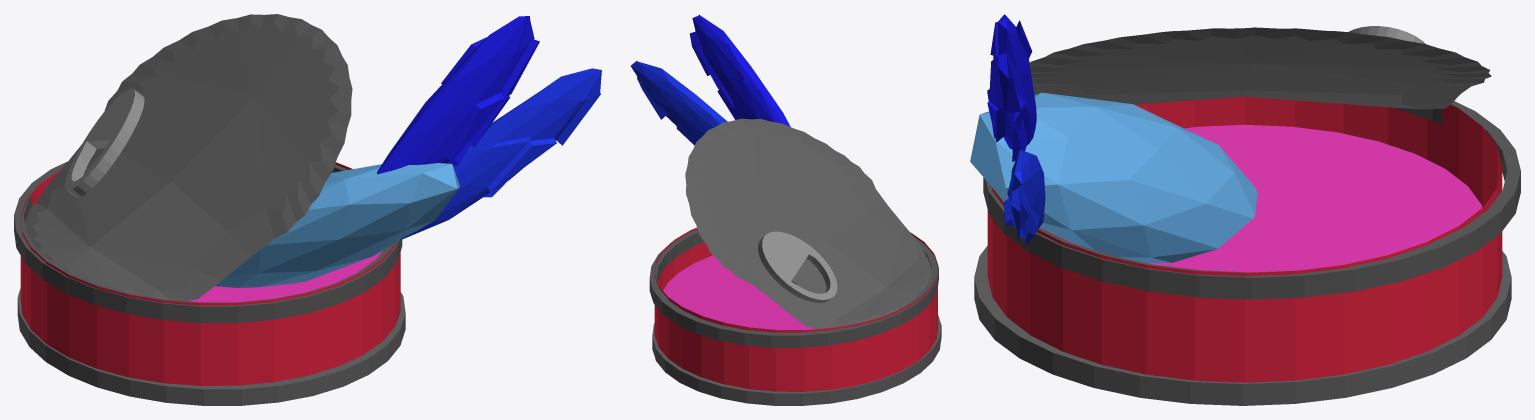
Rendered from fish can.fbx.
3 views of the same model, side by side, from view 1: azimuth 30°, elevation 25°; view 2: azimuth 150°, elevation 25°; view 3: azimuth 270°, elevation 25° (orthographic). The views are drawn at different scales.
Visible parts, largest first — view 1: Cylinder.001, Cylinder, Icosphere, Icosphere.001, Icosphere.002, Cylinder.004, Cylinder.003, lock.001, Cylinder.002; view 2: Cylinder.001, Cylinder, Cylinder.004, Cylinder.002, Icosphere.001, Cylinder.003, Icosphere.002, lock.001; view 3: Cylinder, Icosphere, Cylinder.001, Cylinder.002, Cylinder.004, Cylinder.003, Icosphere.001, Icosphere.002, lock.001.
Part boxes in pixels (<box>): Cylinder.001: <box>25,14,352,301</box>; Cylinder: <box>20,162,400,385</box>; Icosphere: <box>215,163,459,287</box>; Icosphere.001: <box>377,16,539,174</box>; Icosphere.002: <box>400,68,601,239</box>; Cylinder.004: <box>14,161,402,323</box>; Cylinder.003: <box>17,288,405,405</box>; lock.001: <box>65,88,144,197</box>; Cylinder.002: <box>189,250,382,302</box>; Cylinder.001: <box>685,118,931,328</box>; Cylinder: <box>654,227,937,391</box>; Cylinder.004: <box>649,229,938,347</box>; Cylinder.002: <box>663,255,816,330</box>; Icosphere.001: <box>689,14,790,126</box>; Cylinder.003: <box>652,315,941,405</box>; Icosphere.002: <box>631,61,727,145</box>; lock.001: <box>758,231,837,302</box>; Cylinder: <box>987,96,1502,382</box>; Icosphere: <box>970,92,1257,262</box>; Cylinder.001: <box>1029,27,1491,109</box>; Cylinder.002: <box>1040,124,1482,272</box>; Cylinder.004: <box>983,101,1520,299</box>; Cylinder.003: <box>974,246,1511,405</box>; Icosphere.001: <box>987,14,1036,161</box>; Icosphere.002: <box>1003,150,1045,245</box>; lock.001: <box>1348,26,1425,43</box>.
Bounding box in the file's own units: 378 × 244 × 288.
